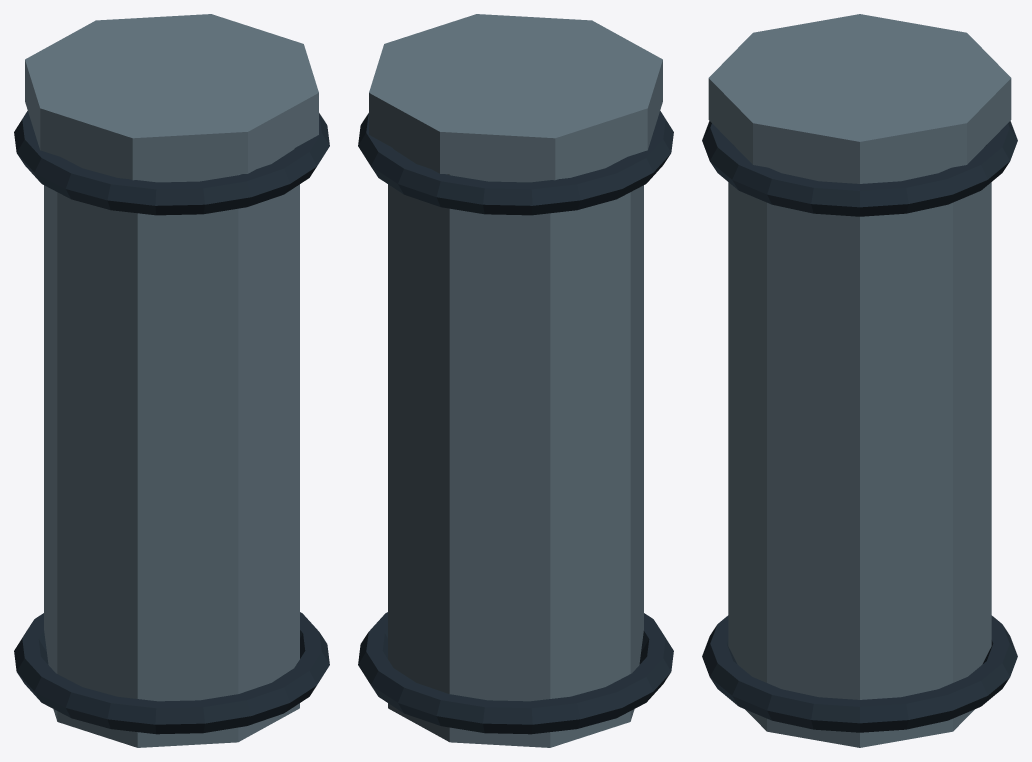
Rendered from terrain-metal-pillar.lod0.glb.
3 views of the same model, side by side, from view 1: azimuth 30°, elevation 25°; view 2: azimuth 150°, elevation 25°; view 3: azimuth 270°, elevation 25° (orthographic).
Parts seen in each view (by area): view 1: terrain-metal-pillar__body; view 2: terrain-metal-pillar__body; view 3: terrain-metal-pillar__body.
Boxes of the visible parts, left/top/right/bottom form: terrain-metal-pillar__body: left=14, top=14, right=329, bottom=747; terrain-metal-pillar__body: left=358, top=14, right=673, bottom=747; terrain-metal-pillar__body: left=702, top=14, right=1017, bottom=747.
Bounding box in the file's own units: 0.96 × 2.06 × 0.96.
